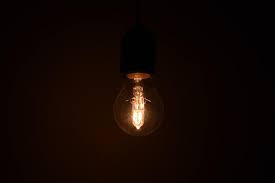bulb: (103, 58, 173, 140)
